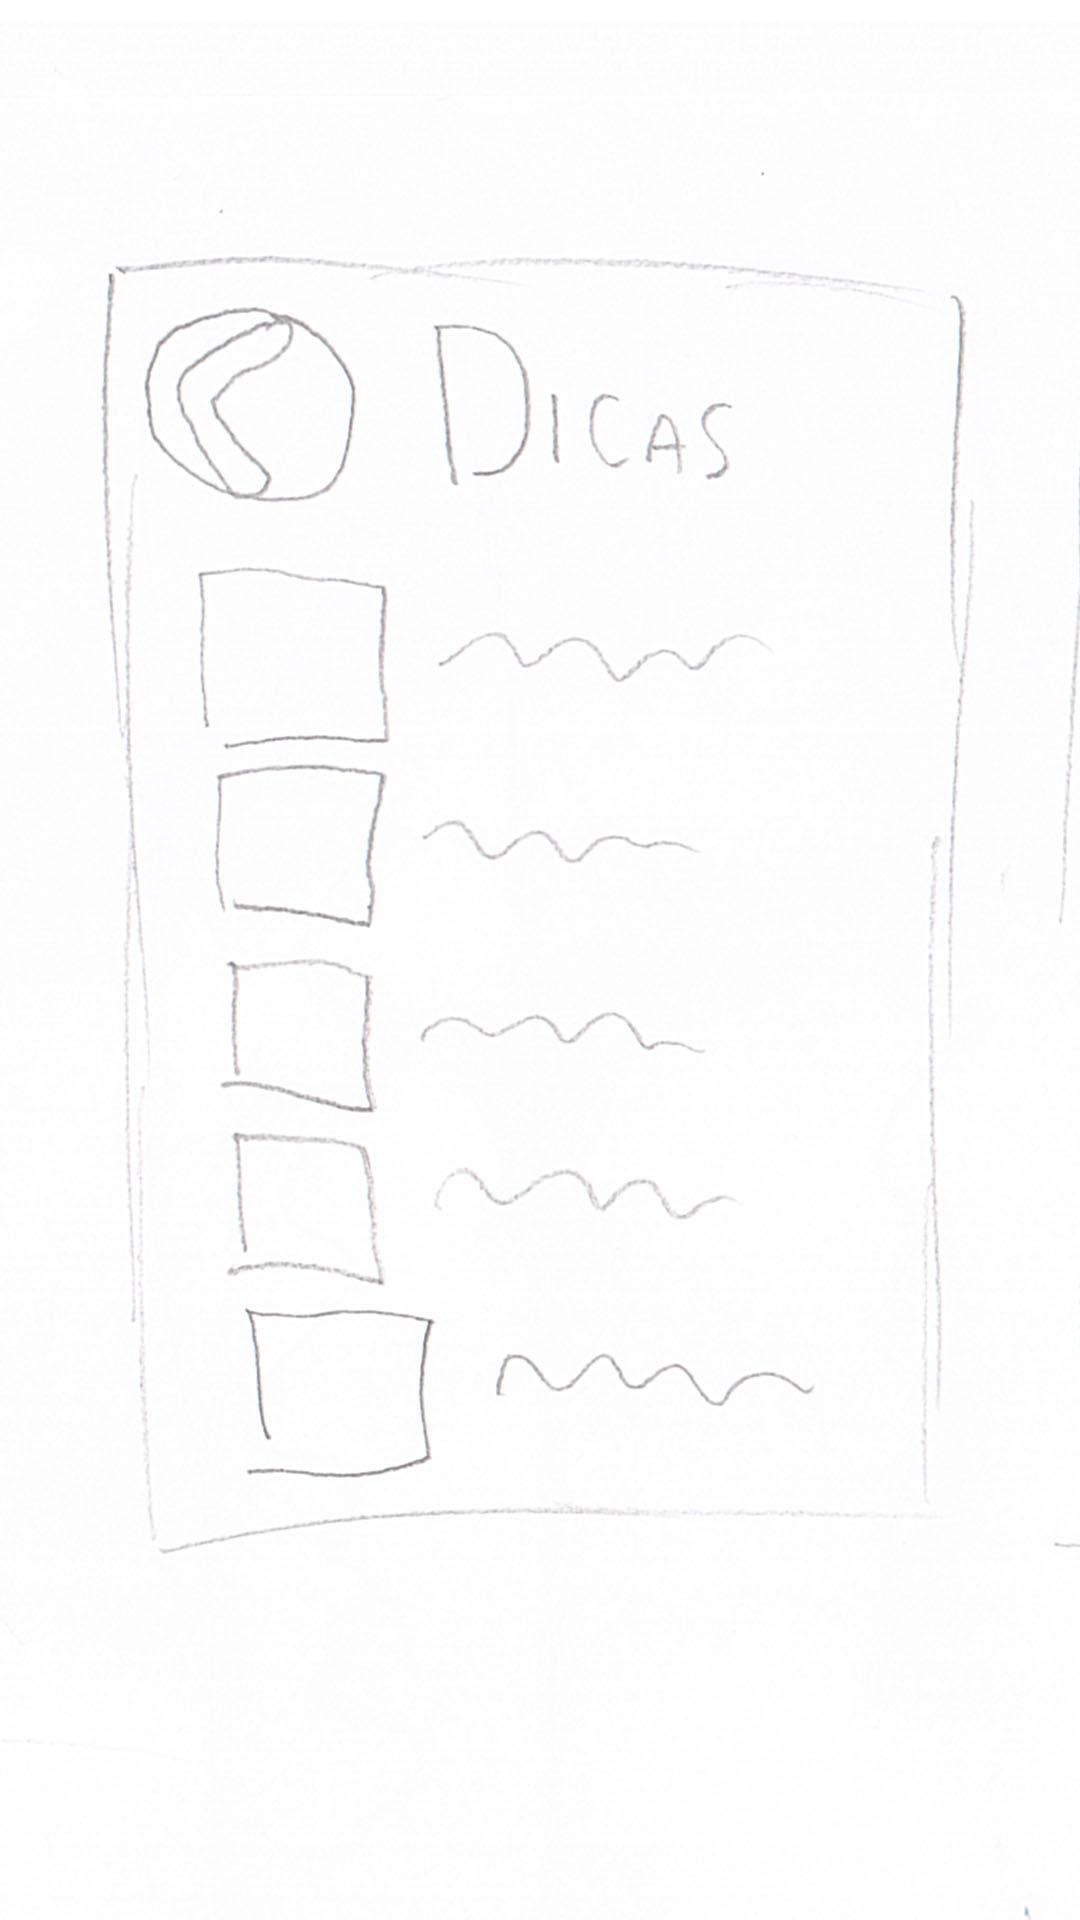Button: (144, 311, 357, 504)
CheckBox: (196, 568, 774, 750), (248, 1304, 819, 1480), (216, 761, 704, 930), (233, 1131, 736, 1288), (227, 960, 708, 1113)
Label: (431, 326, 736, 491)
Screen: (109, 261, 964, 1553)
